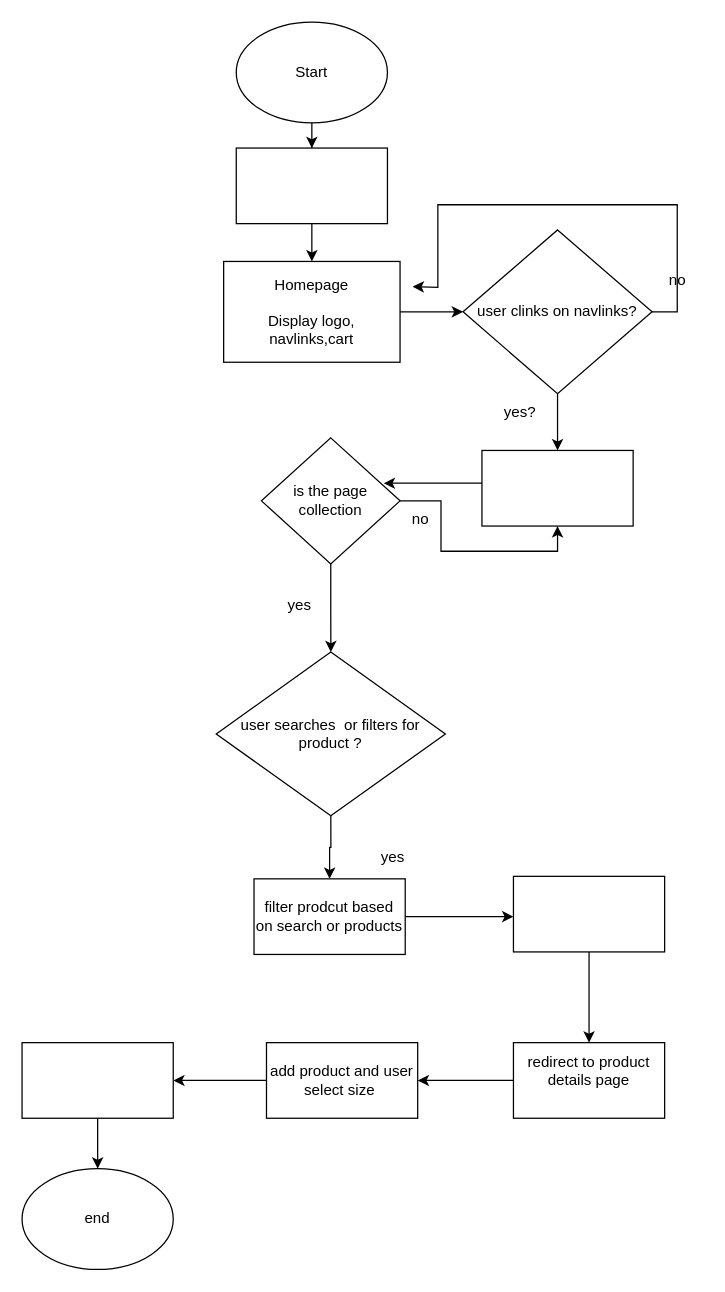
Some shapes in this 725 by 1292 pixel diagram are drawn without their labels. Here are the shapes that lost their labels. From the top down, the centre of each, then its label:
At point (311, 185): "Opens the Web app".
At point (557, 487): "redirects to corresponding home page".
At point (588, 913): "product selection".
At point (97, 1079): "pay for product".
